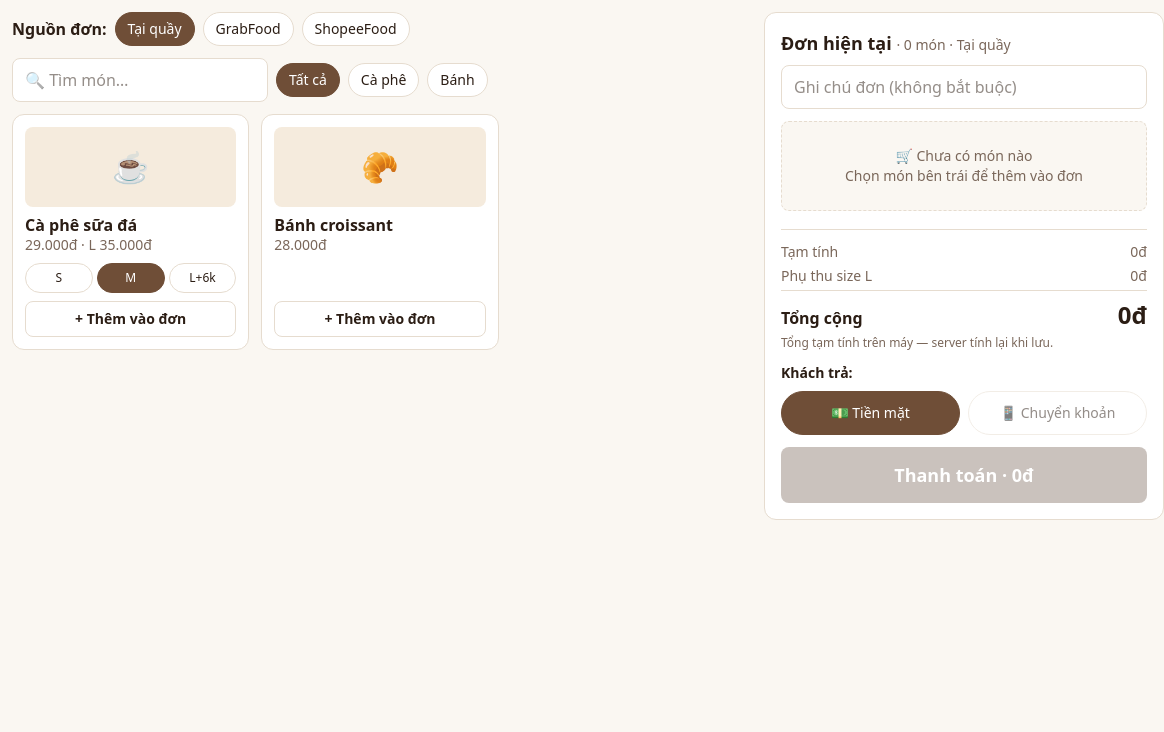
Scenario: Màn bán hàng (UC02) › server từ chối (400) → hiện lỗi, giữ nguyên giỏ
Expected: the heading "Cà phê sữa đá" is shown, [25, 214, 137, 236]
Click the button "L+6k": click(202, 278) [169, 263, 236, 293]
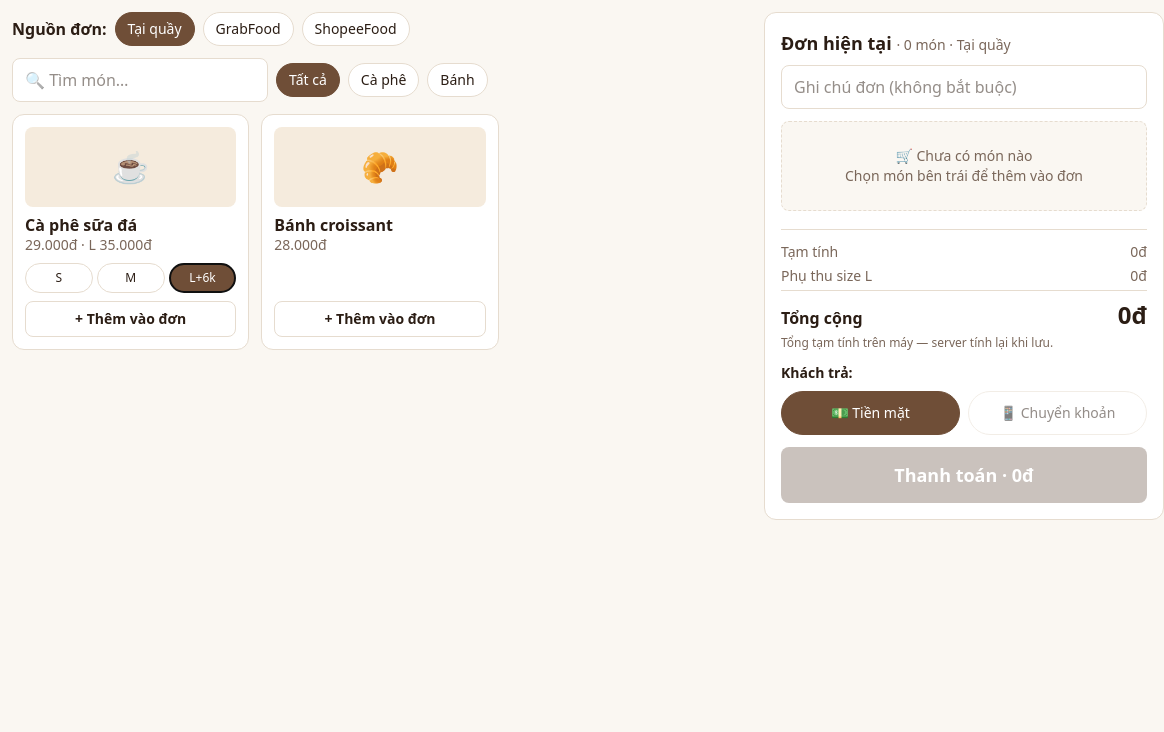
Click the button "+ Thêm vào đơn" below "29.000đ": click(131, 319) [25, 301, 236, 337]
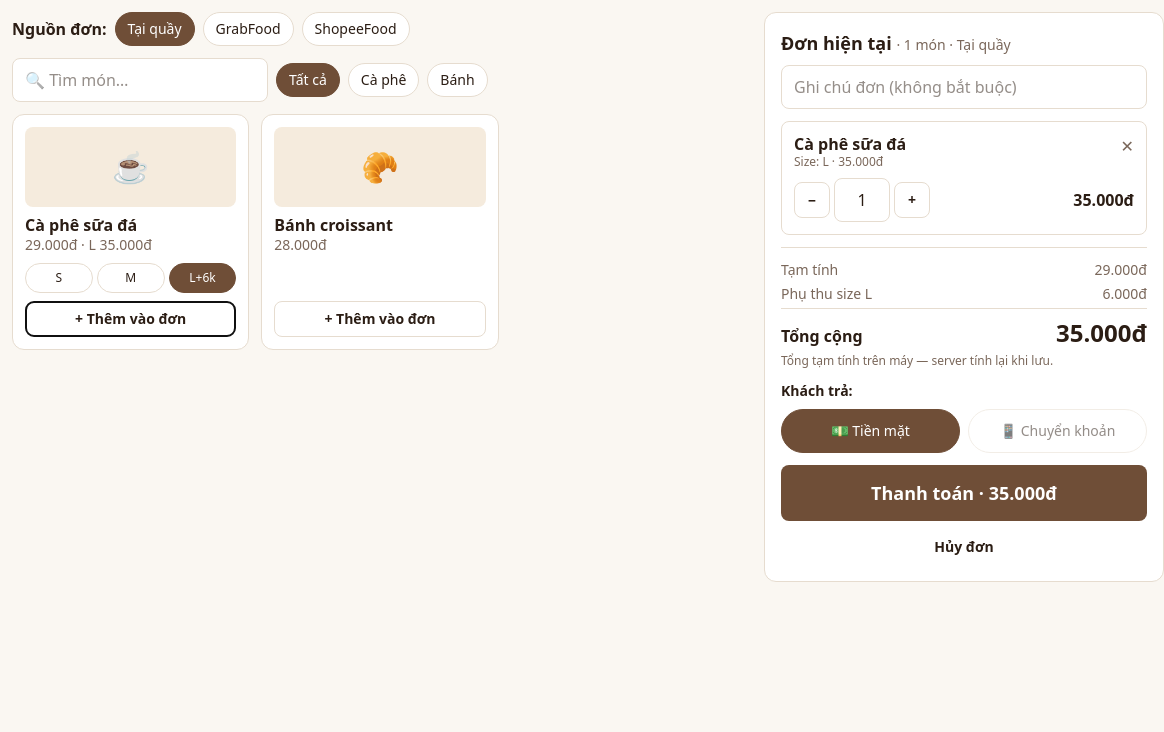
Click the button "Thanh toán · 35.000đ": click(964, 493) [781, 465, 1147, 521]
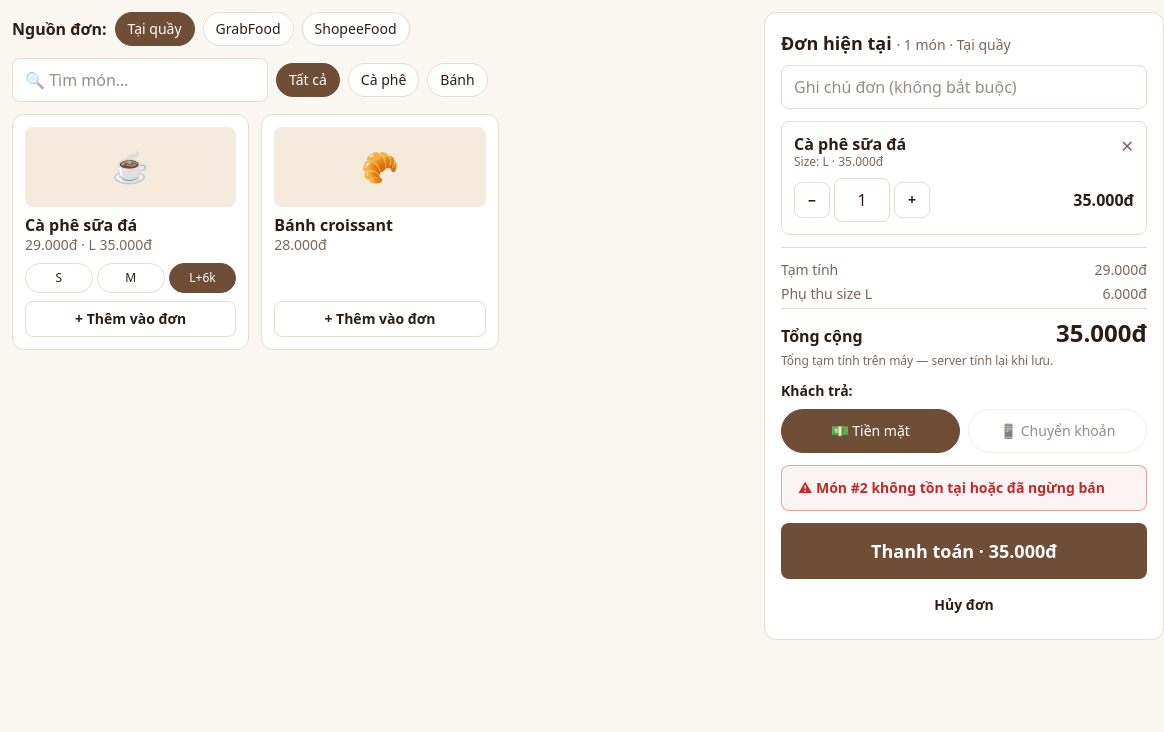
Expected: the field named "Số lượng Cà phê sữa đá" holds "1", [834, 178, 890, 222]
Expected: the message shows "đã ngừng bán", [816, 478, 1105, 497]
